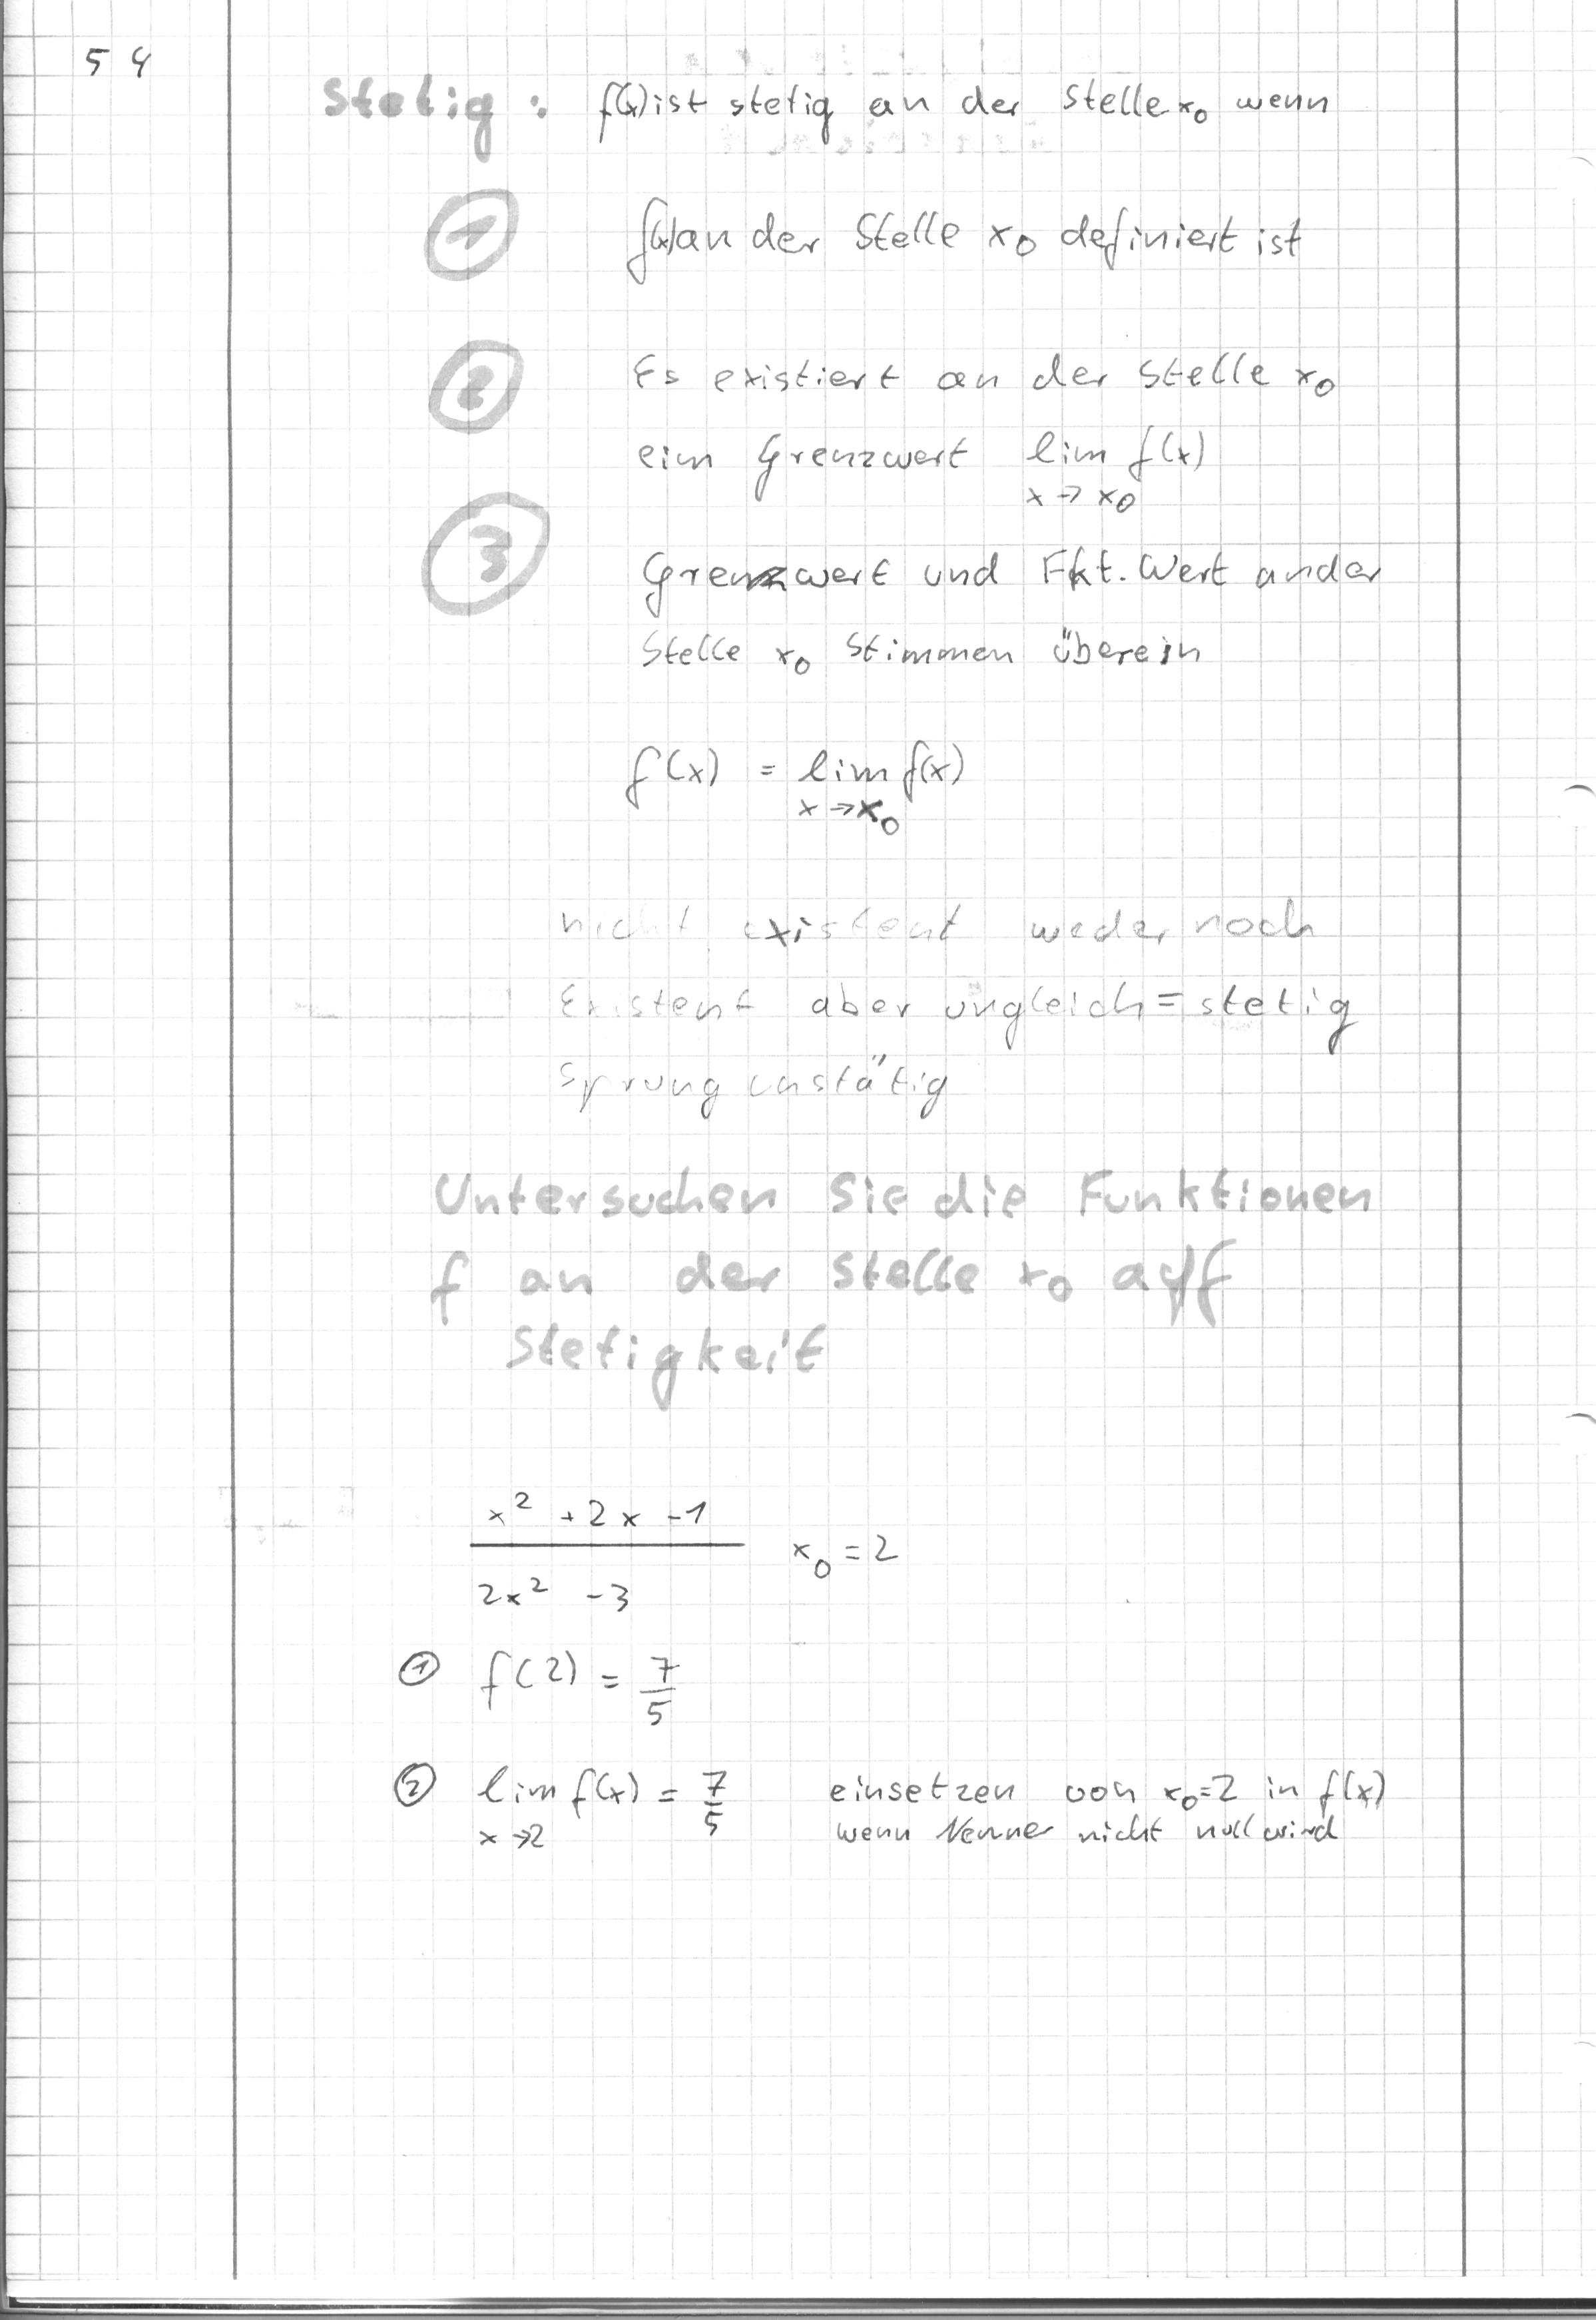word: (631, 539, 1388, 692), (379, 1629, 747, 1879), (585, 53, 1354, 162), (621, 184, 1322, 302), (455, 1481, 916, 1629), (815, 1751, 1396, 1865), (627, 418, 1216, 528), (622, 328, 1353, 415), (613, 723, 979, 845)
